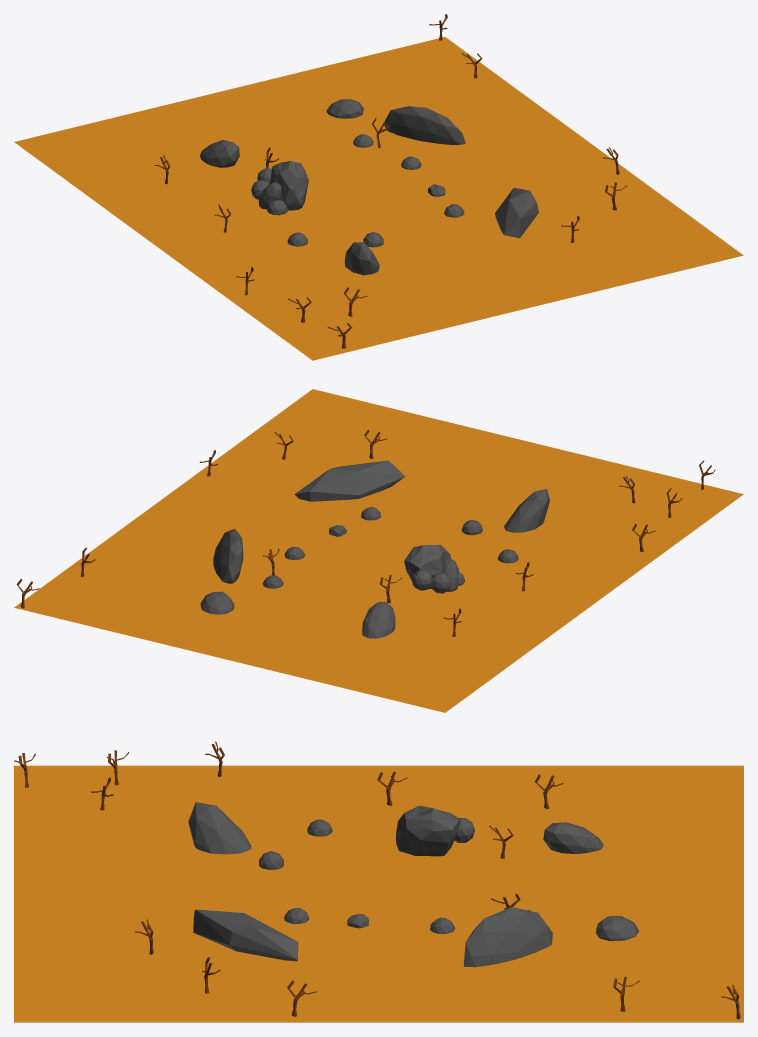
File: mdl_desert.gltf
3 renders of one model, top to bottom at view 1: azimuth 30°, elevation 25°; view 2: azimuth 150°, elevation 25°; view 3: azimuth 270°, elevation 25°, orthographic. The views are drawn at different scales.
Parts seen in each view (by area): view 1: Plane.001; view 2: Plane.001; view 3: Plane.001.
Part boxes in pixels (box(x1,y1,x2,y2)): Plane.001: box(14, 14, 743, 360); Plane.001: box(14, 389, 743, 712); Plane.001: box(14, 741, 743, 1022).
Bounding box in the file's own units: 60 × 12.39 × 72.
1 material, 1 textured.
